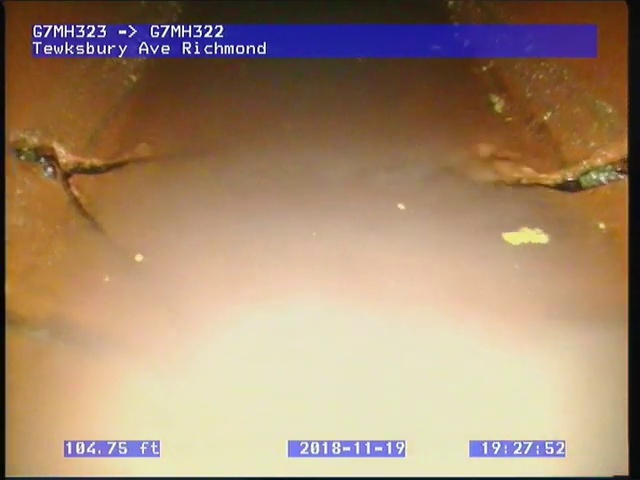crack: (8, 127, 179, 237), (498, 154, 628, 195)
